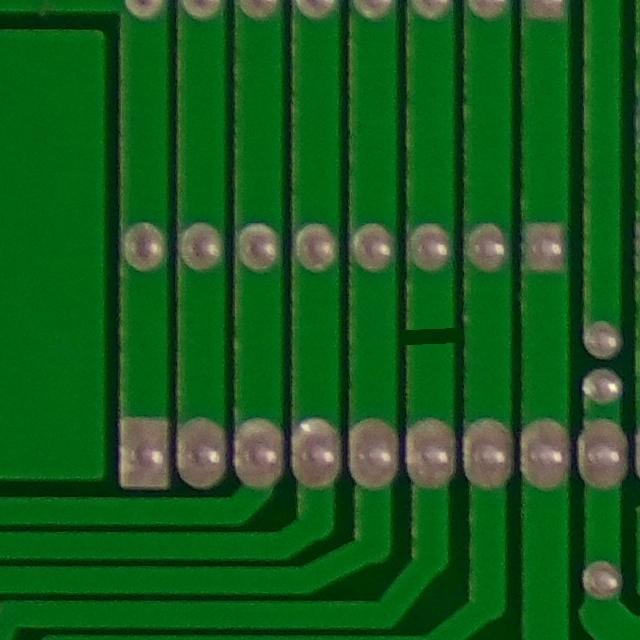open_circuit: (401, 310, 462, 371)
